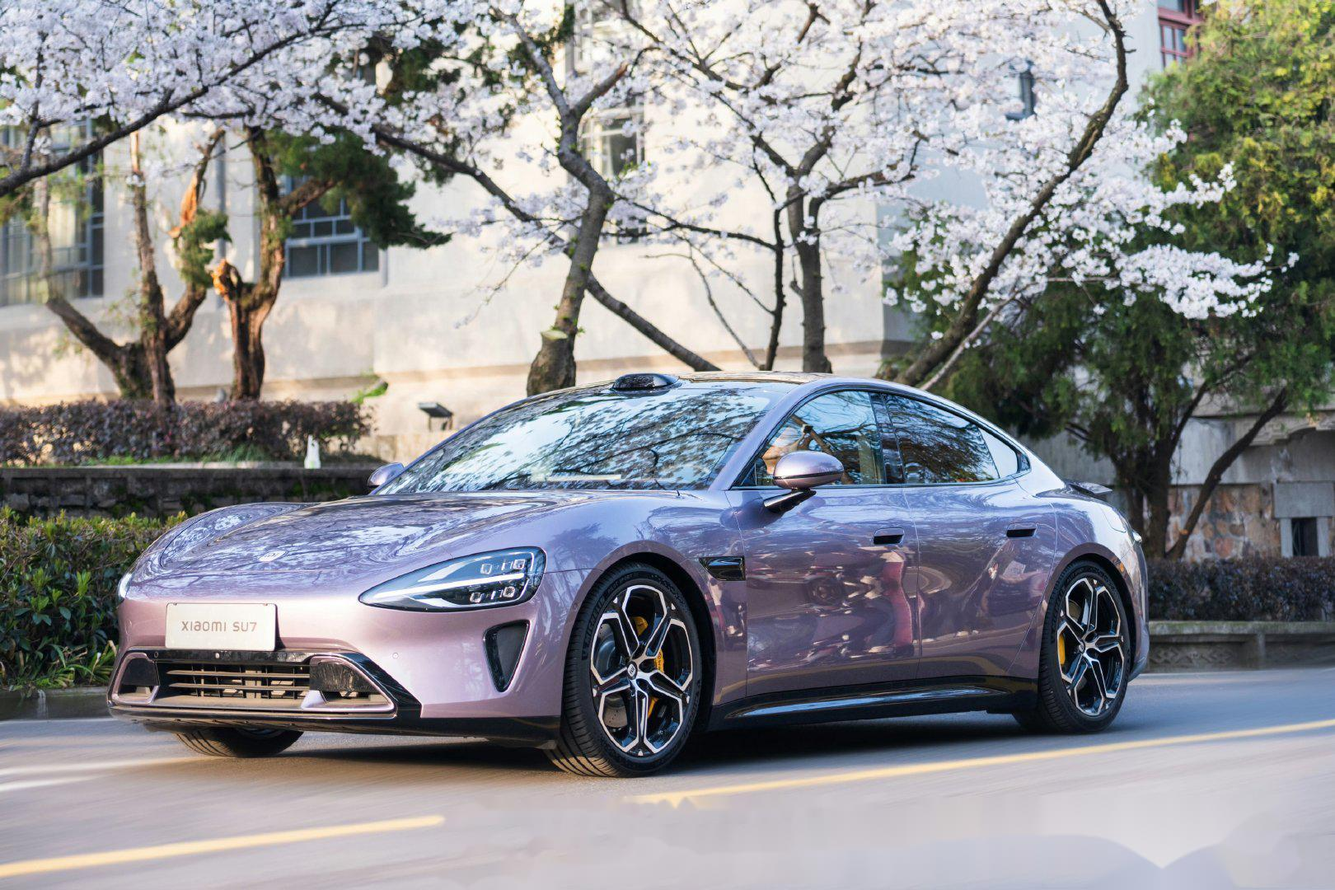su7: (120, 365, 1168, 775)
